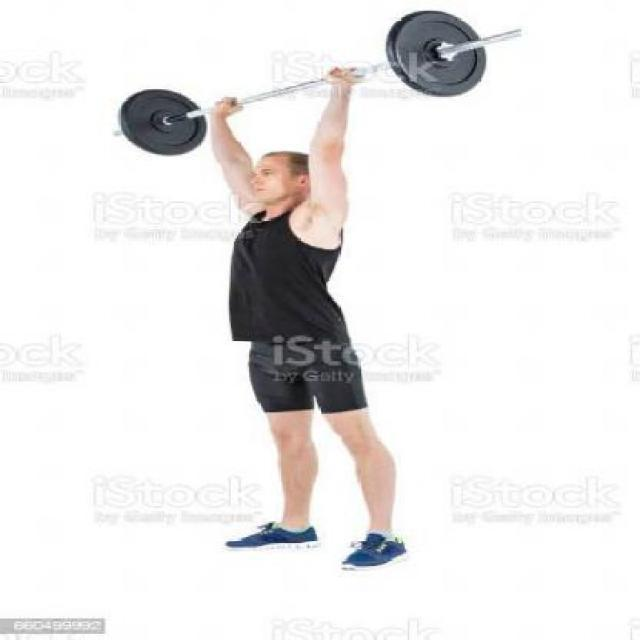Barbell: (510, 27, 536, 42)
